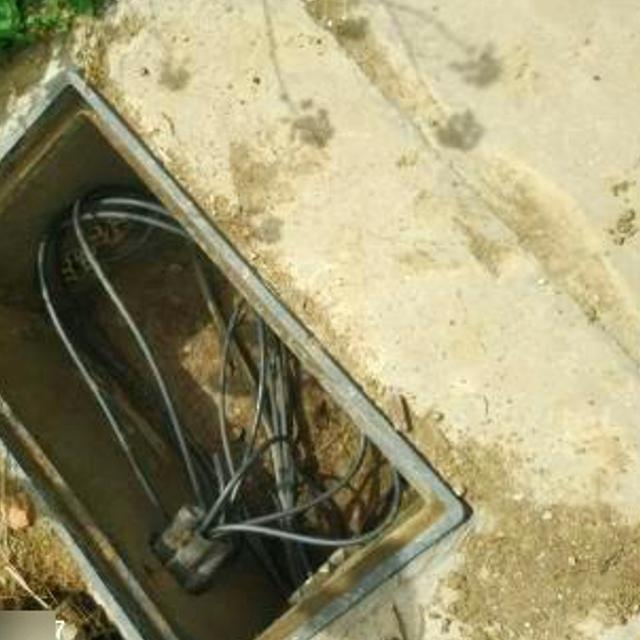lose: (0, 67, 468, 640)
